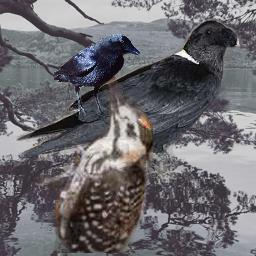Crow: (11, 19, 245, 186), (54, 34, 140, 117)
Woodpecker: (35, 74, 153, 253)
